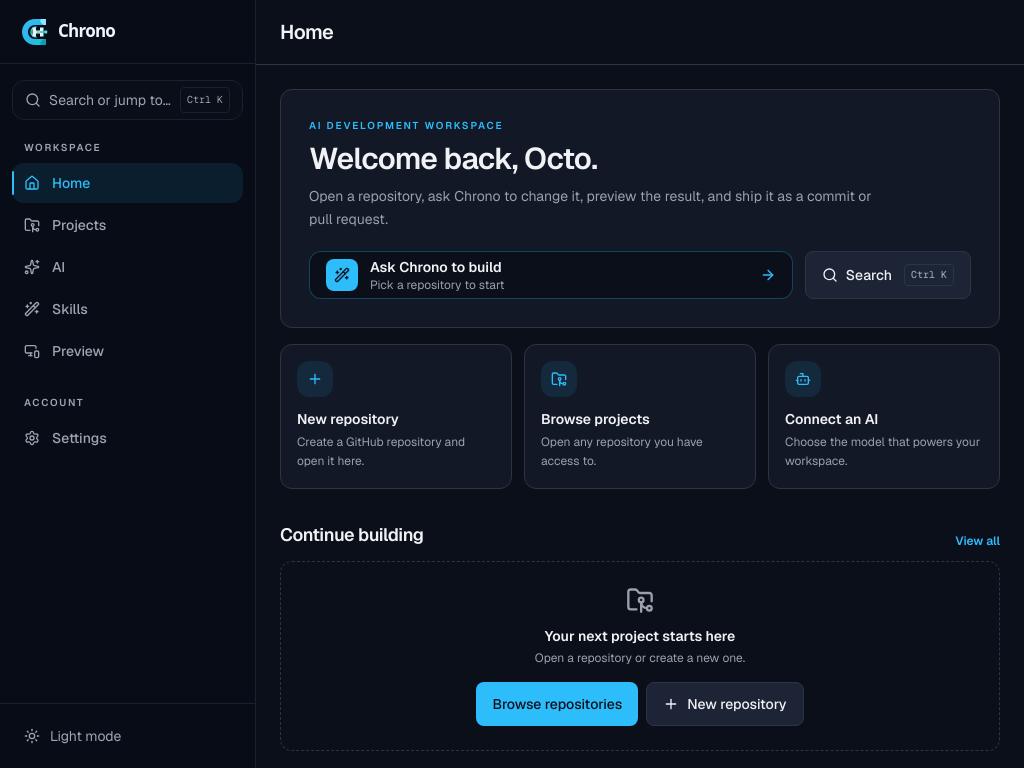
Test: Command palette › opens with Ctrl+K, filters and navigates
Press k
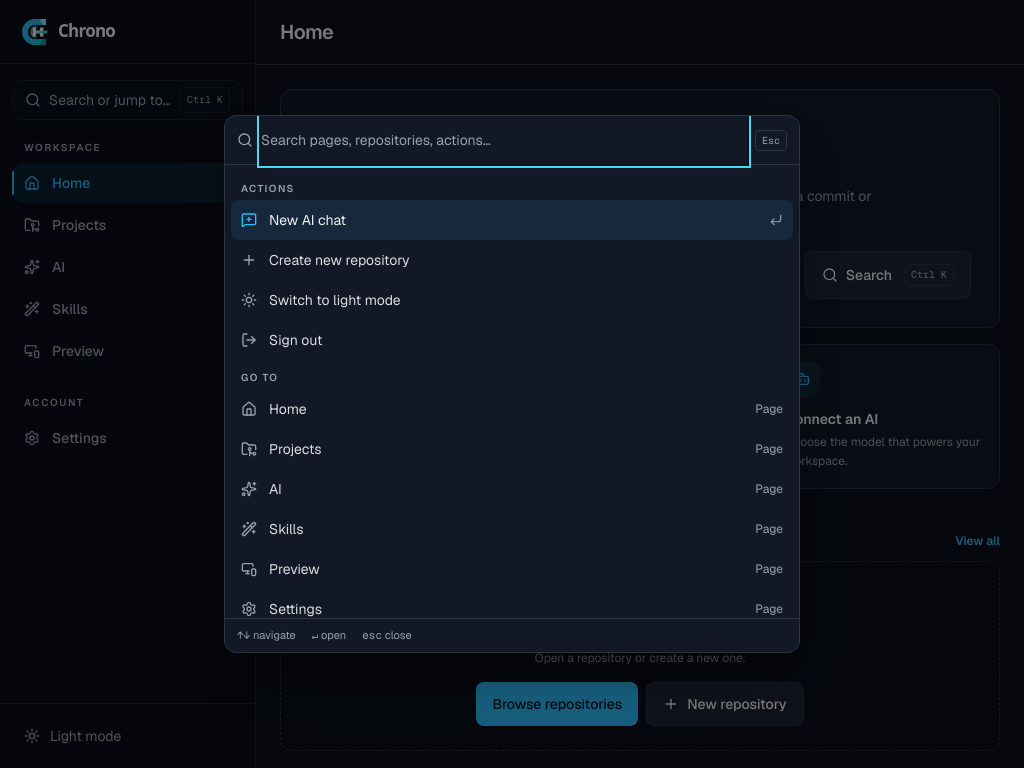
Type "skills" into the dropdown with test id "input-palette" at (504, 140), box [261,116,747,164]
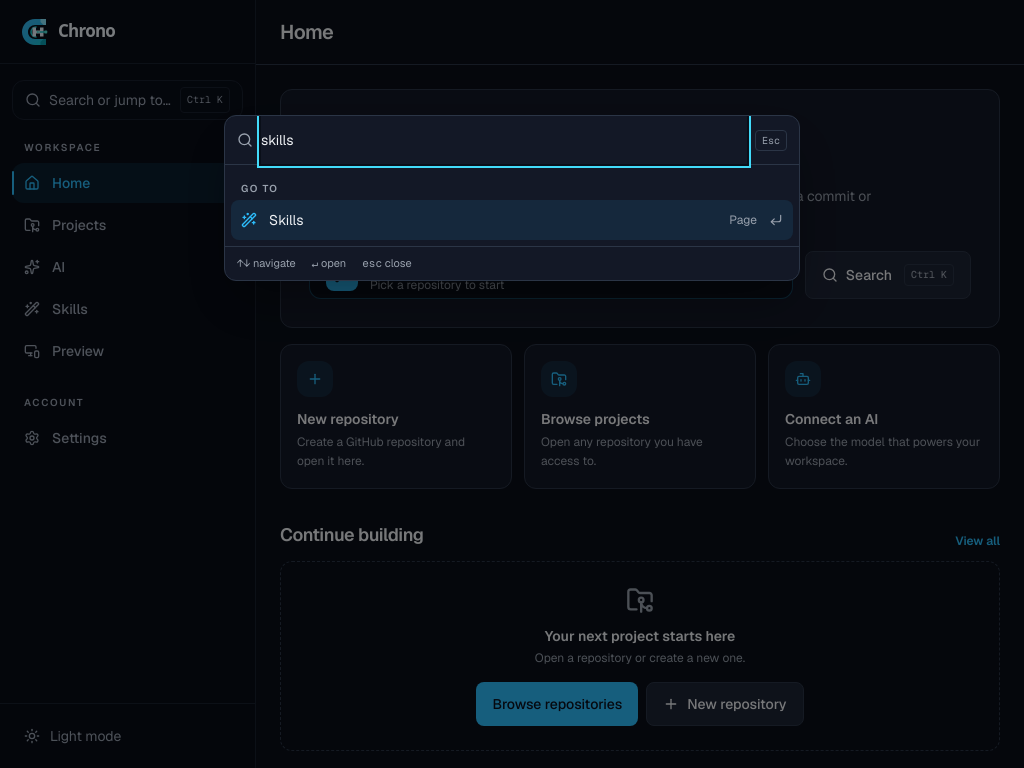
Press Enter in the dropdown with test id "input-palette", box [261,116,747,164]
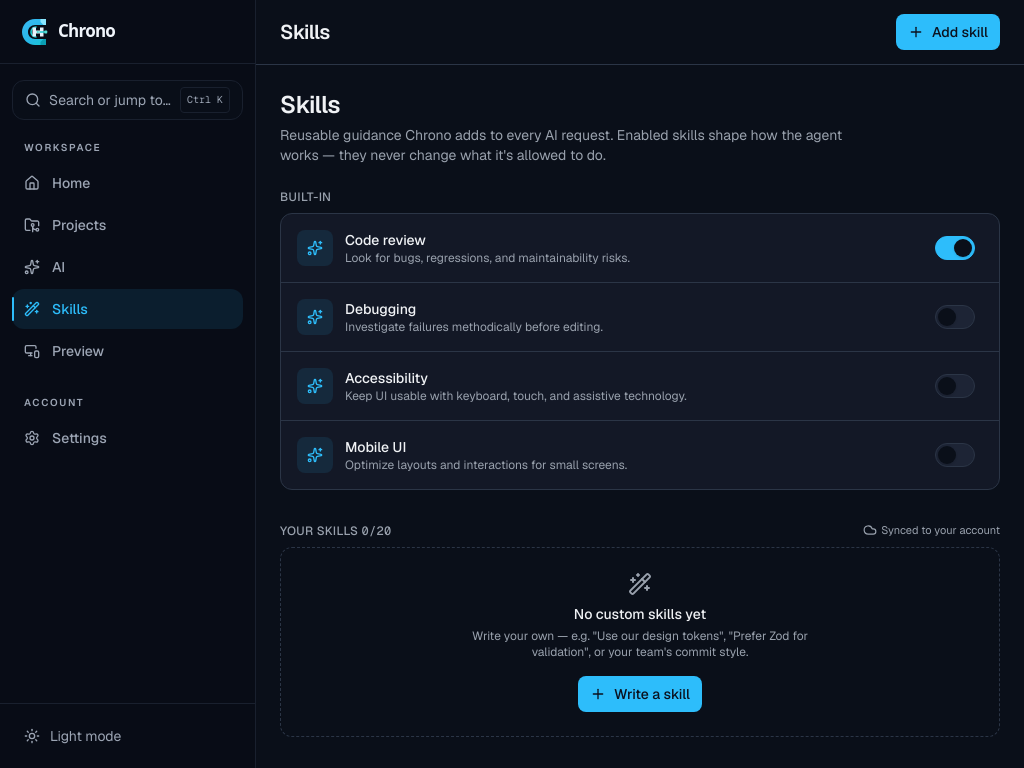
Check: the element with test id "command-palette" is gone
